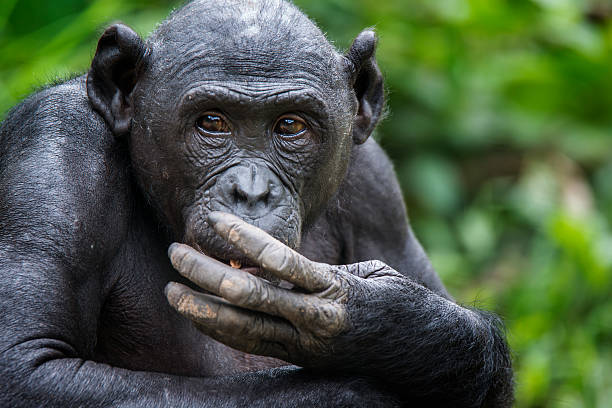chimpanzee: (73, 4, 410, 302)
